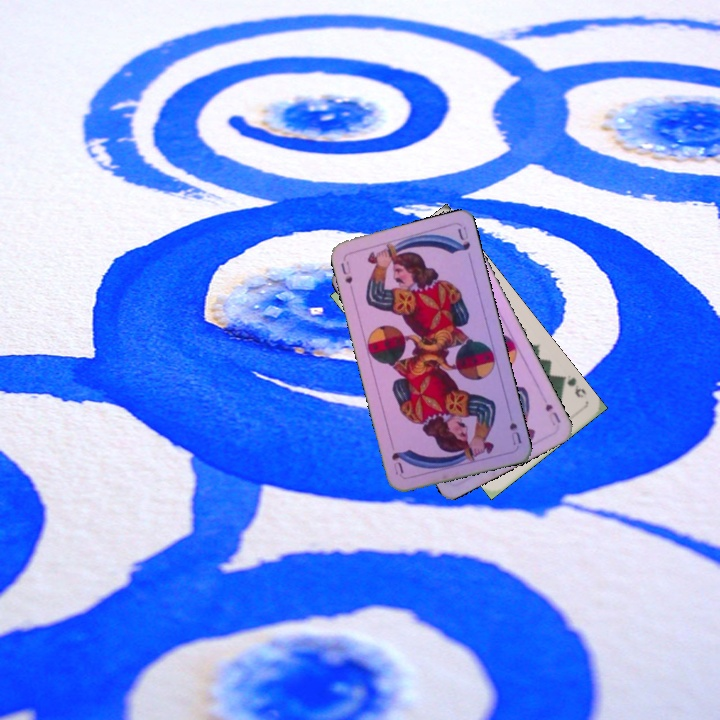G9: (556, 372, 589, 401)
SU: (337, 257, 356, 295), (541, 399, 563, 425), (505, 418, 524, 448)
